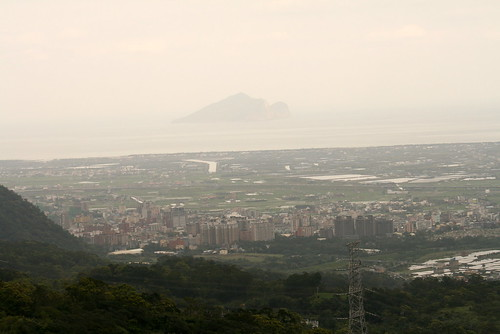turtleIsland: (168, 93, 292, 120)
